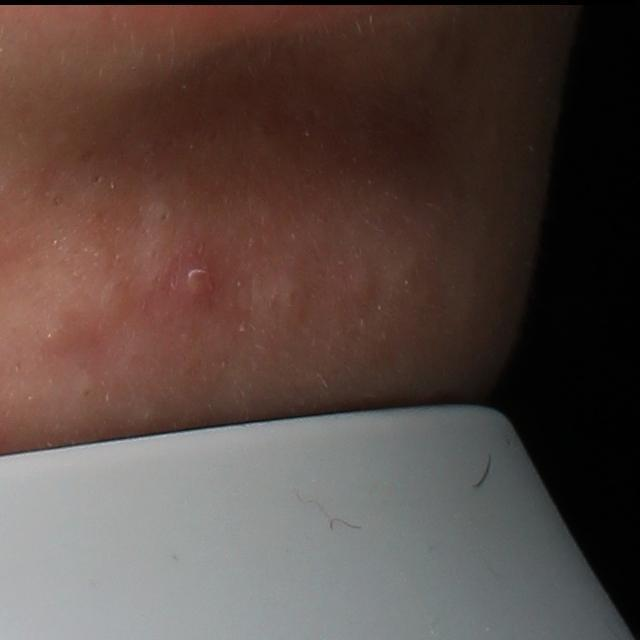comedo: (155, 206, 177, 225)
